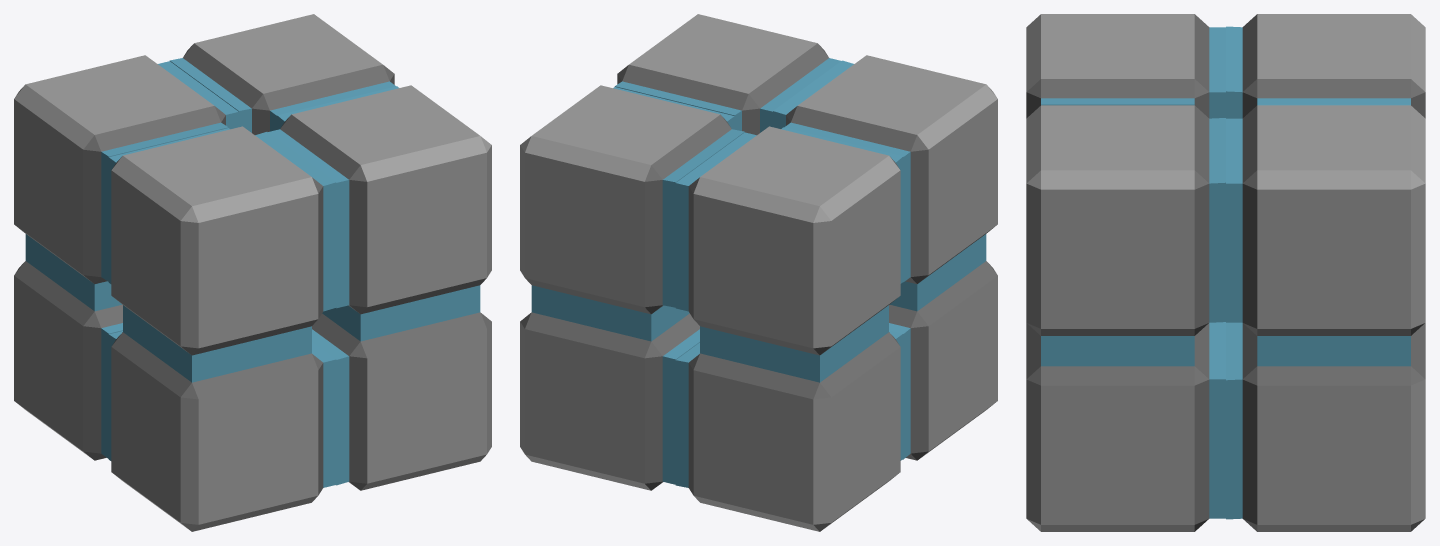
File: Form_Cube.fbx
The picture shows the model from 3 angles, left to right: view 1: azimuth 30°, elevation 25°; view 2: azimuth 150°, elevation 25°; view 3: azimuth 270°, elevation 25°; orthographic projection. The views are drawn at different scales.
Parts seen in each view (by area): view 1: Form_Cube_P01, Form_Cube_P05, Form_Cube_P02, Form_Cube_P03, Form_Cube_P06, Form_Cube_P07, Form_Cube_P04; view 2: Form_Cube_P03, Form_Cube_P07, Form_Cube_P04, Form_Cube_P01, Form_Cube_P08, Form_Cube_P05, Form_Cube_P02; view 3: Form_Cube_P04, Form_Cube_P02, Form_Cube_P08, Form_Cube_P06, Form_Cube_P01, Form_Cube_P03.
Part boxes in pixels (x1,y1,x2,y2): Form_Cube_P01: (108,126,336,368); Form_Cube_P05: (108,319,336,531); Form_Cube_P02: (268,85,491,327); Form_Cube_P03: (14,55,238,297); Form_Cube_P06: (312,299,491,490); Form_Cube_P07: (14,247,122,460); Form_Cube_P04: (169,14,395,134); Form_Cube_P03: (675,126,903,368); Form_Cube_P07: (675,319,903,531); Form_Cube_P04: (520,85,744,327); Form_Cube_P01: (773,55,997,297); Form_Cube_P08: (520,299,699,490); Form_Cube_P05: (889,247,997,460); Form_Cube_P02: (614,14,840,135); Form_Cube_P04: (1226,104,1425,350); Form_Cube_P02: (1026,105,1225,350); Form_Cube_P08: (1226,322,1425,531); Form_Cube_P06: (1026,322,1225,531); Form_Cube_P01: (1026,14,1225,118); Form_Cube_P03: (1226,14,1425,118).
Size of the model in its own units: 54.55 by 54.55 by 54.55.
